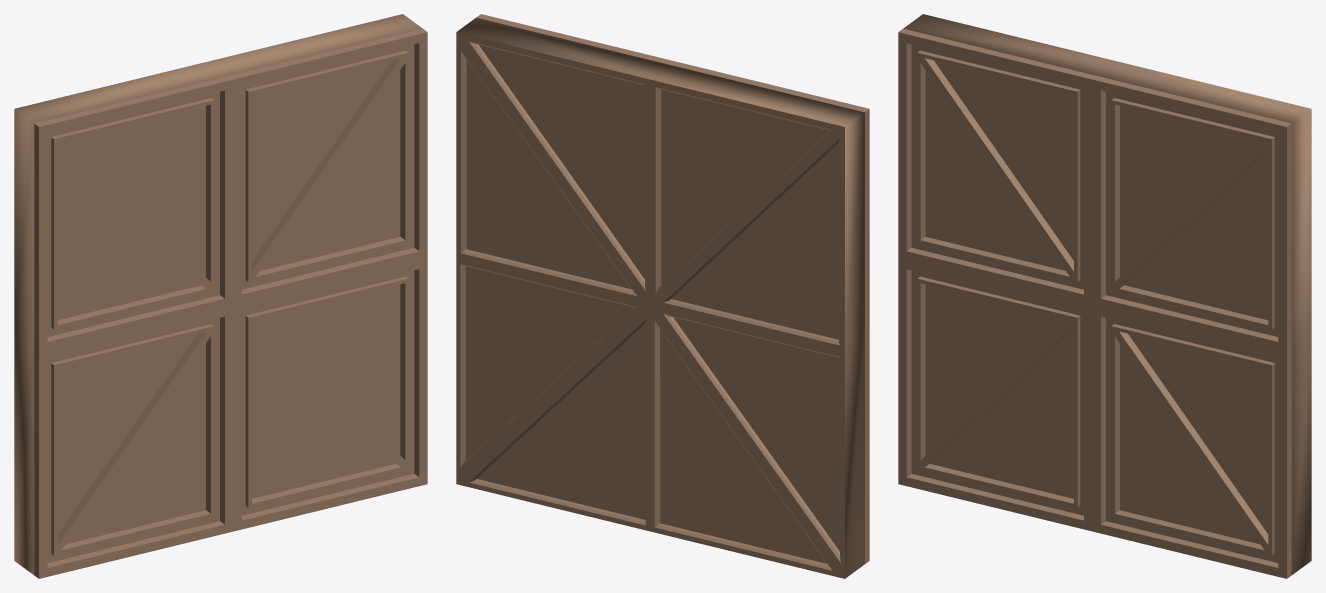
Rendered from ModularWall_002.FBX.
3 renders of one model, left to right at view 1: azimuth 30°, elevation 25°; view 2: azimuth 150°, elevation 25°; view 3: azimuth 330°, elevation 25°, orthographic.
Visible parts, largest first — view 1: ModularWall_002; view 2: ModularWall_002; view 3: ModularWall_002.
Boxes of the visible parts, x1,y1,x2,y2 form: ModularWall_002: (14, 14, 427, 578); ModularWall_002: (456, 14, 869, 578); ModularWall_002: (898, 14, 1311, 578).
Size of the model in its own units: 22.86 by 25.4 by 2.53.
